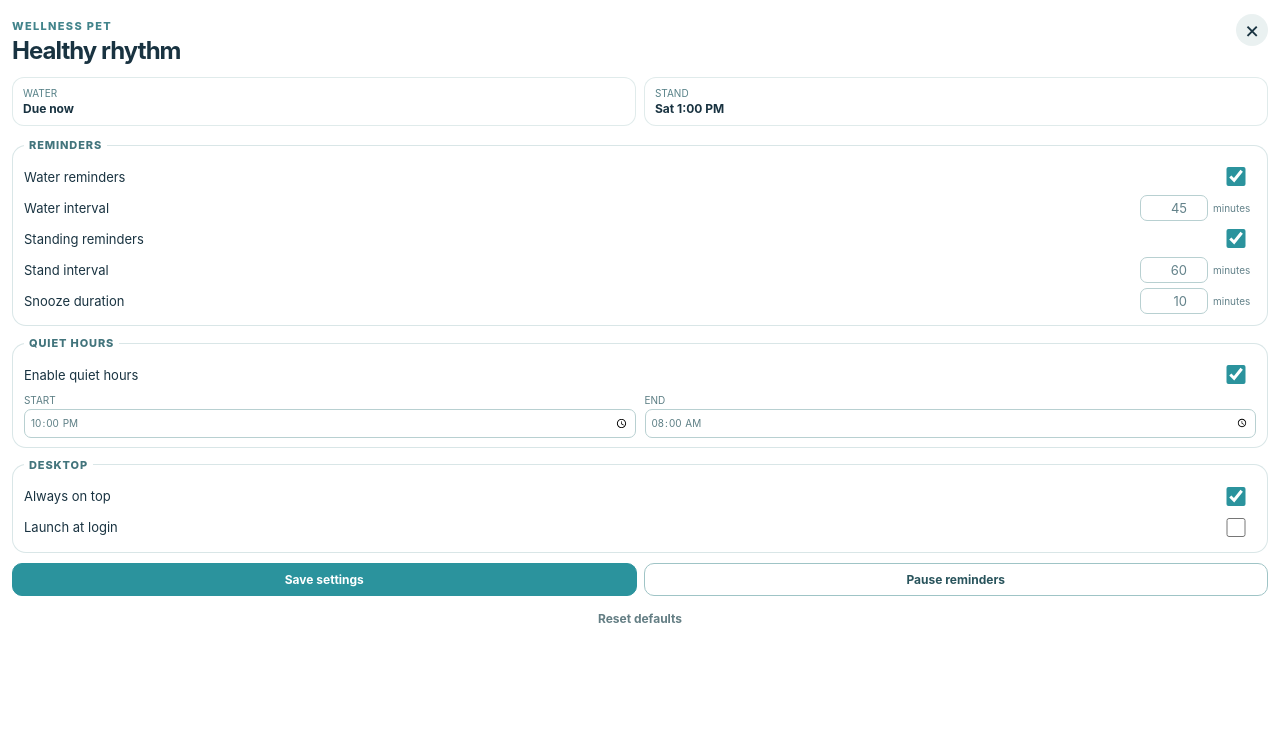
Test: SettingsPanel › shows useful validation and does not submit invalid settings
Replace the text in the number field labelled "Water interval" with "0" at [1174, 208], box [1140,194,1208,220]
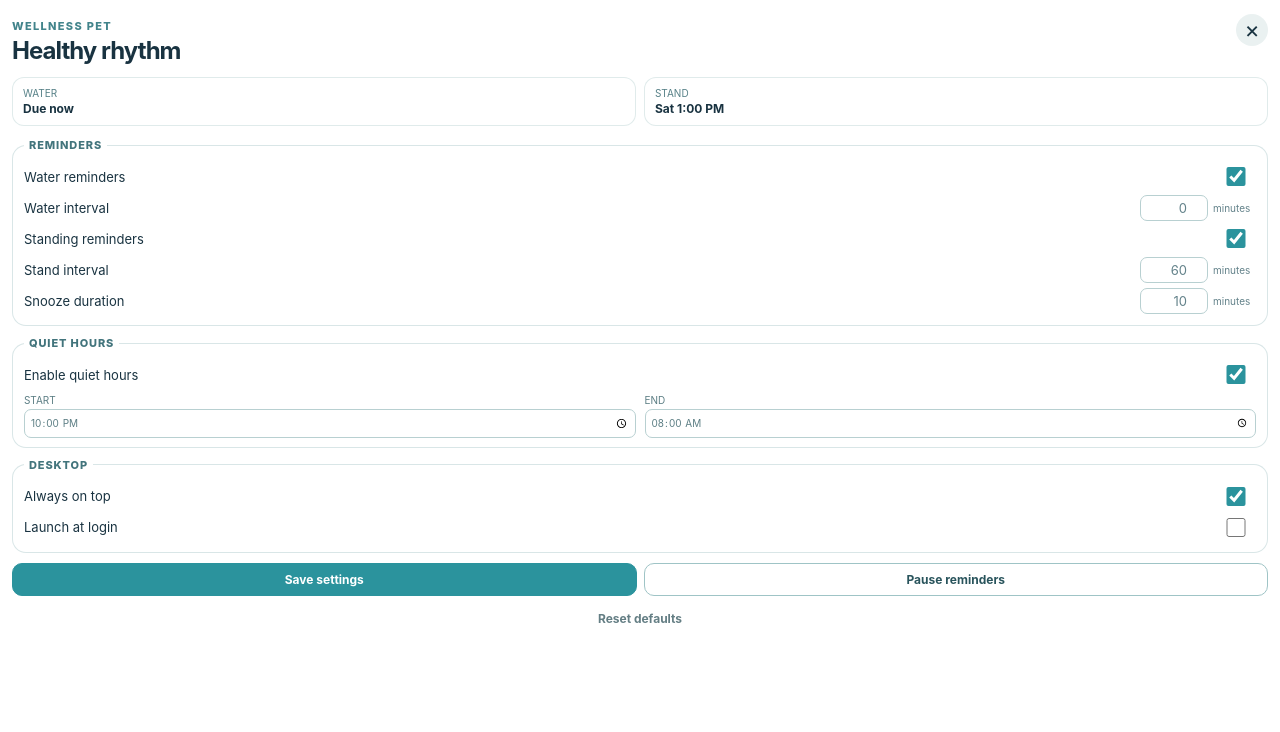
Click the button "Save settings" at [324, 579], box [12,562,636,596]
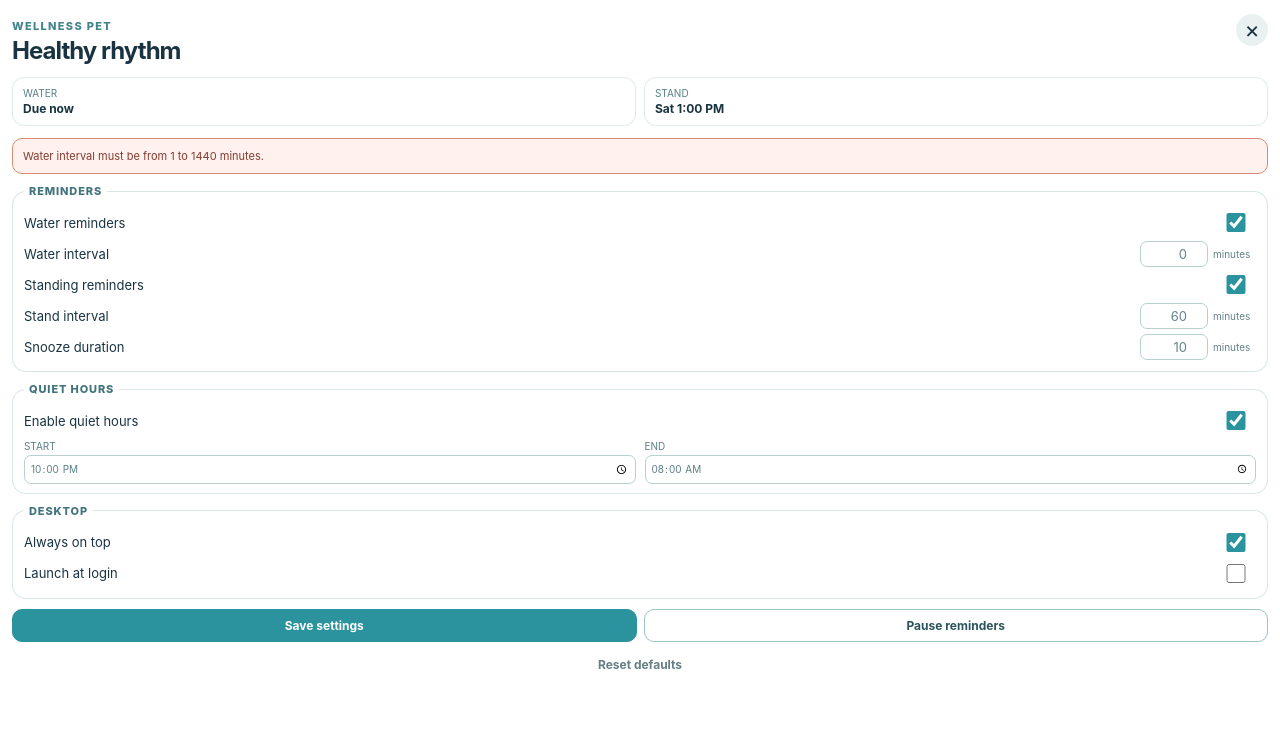
Expected: the message reads "Water interval must be from 1 to 1440 minutes.", [23,149,264,163]
